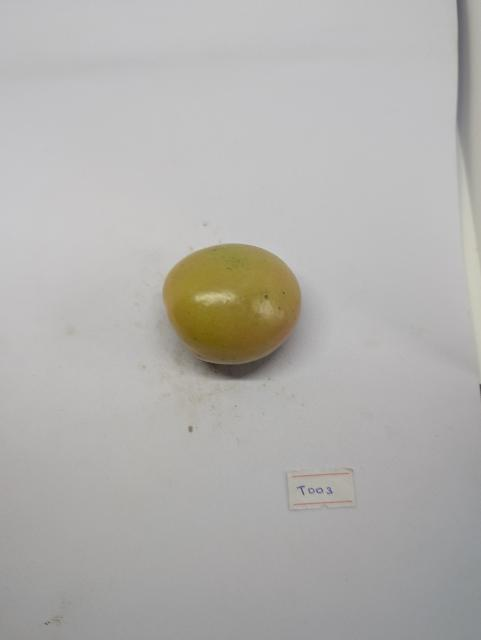breaker: (160, 241, 306, 372)
